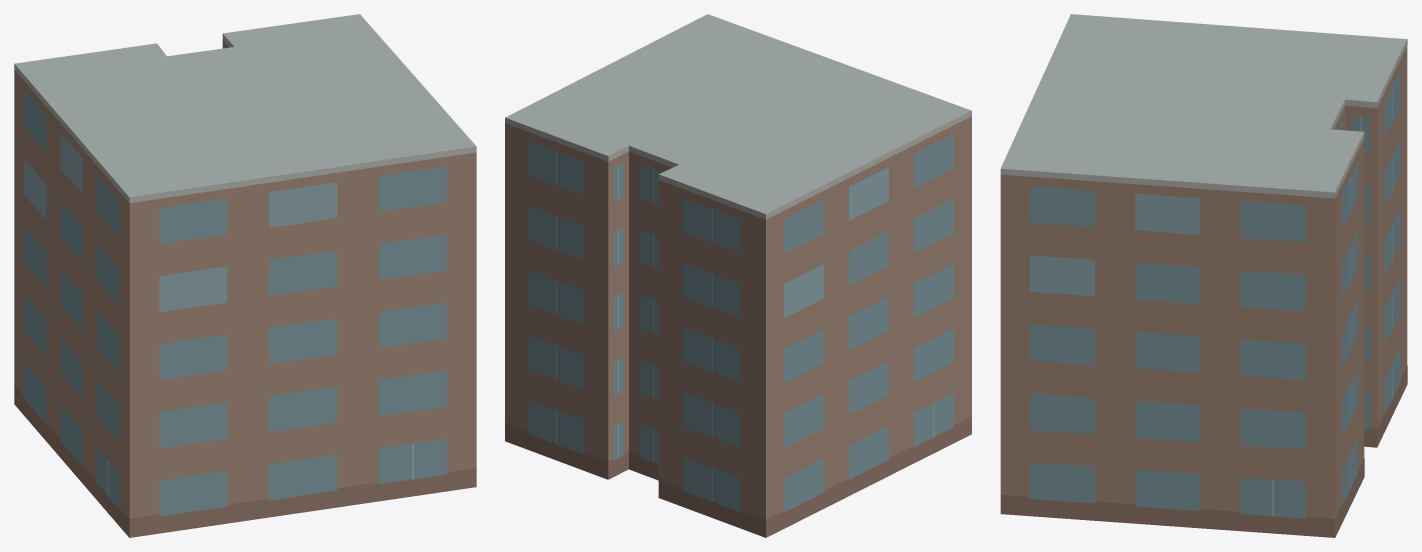
Rendered from survey-upis-32879420.glb.
The picture shows the model from 3 angles, left to right: view 1: azimuth 30°, elevation 25°; view 2: azimuth 150°, elevation 25°; view 3: azimuth 270°, elevation 25°; orthographic projection. The views are drawn at different scales.
Visible parts, largest first — view 1: survey-upis-32879420.tmp; view 2: survey-upis-32879420.tmp; view 3: survey-upis-32879420.tmp.
Boxes of the visible parts, x1=… form: survey-upis-32879420.tmp: x1=14, y1=14, x2=476, y2=537; survey-upis-32879420.tmp: x1=505, y1=14, x2=971, y2=537; survey-upis-32879420.tmp: x1=1000, y1=14, x2=1407, y2=537.
Size of the model in its own units: 15.81 by 14.25 by 15.23.
